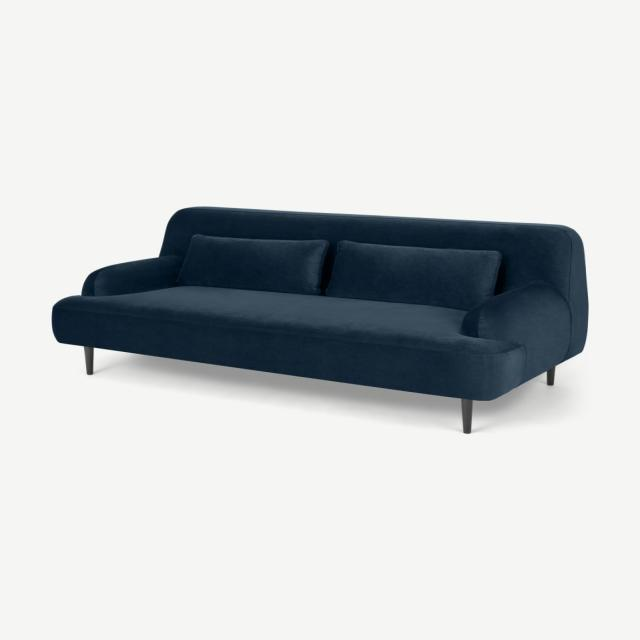Soffa: (51, 199, 603, 438)
